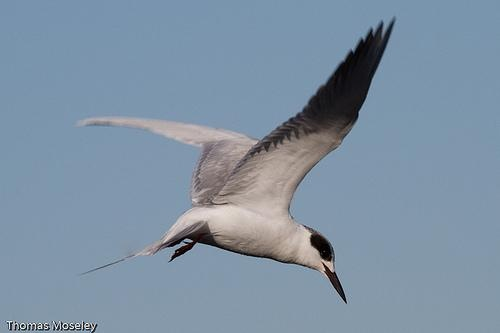bird: (77, 17, 397, 302)
